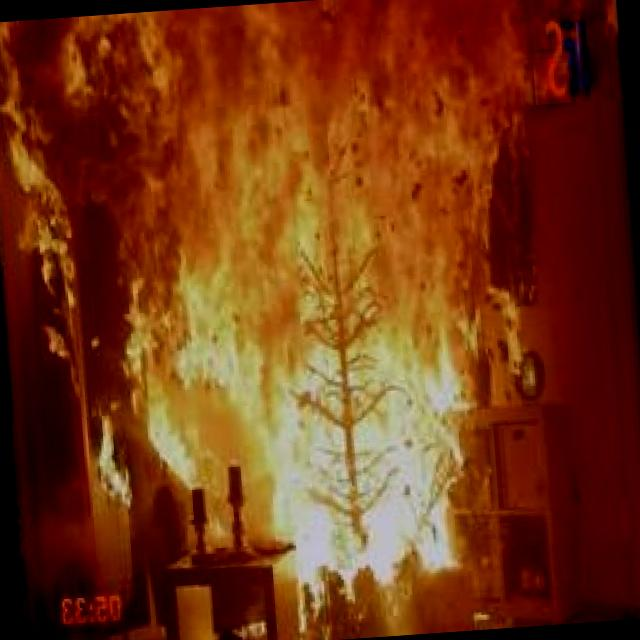fire: (15, 0, 640, 593)
